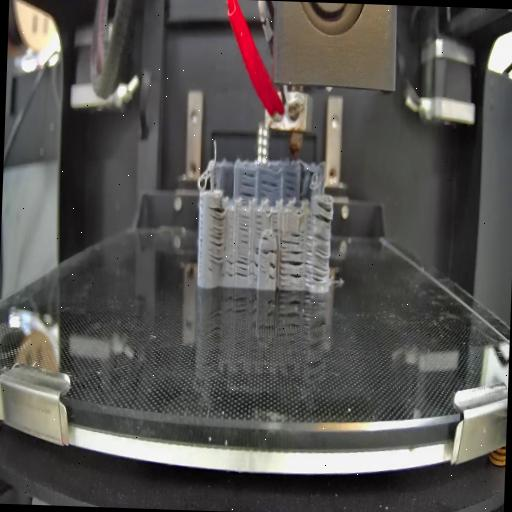cracks: (304, 234, 330, 284), (205, 205, 224, 265), (222, 258, 259, 280), (280, 250, 302, 282), (282, 168, 298, 201), (259, 171, 278, 197), (312, 199, 332, 223), (238, 171, 256, 196), (238, 212, 252, 244), (282, 230, 301, 246), (251, 245, 276, 257), (267, 260, 276, 283), (270, 210, 279, 232), (254, 214, 262, 236), (260, 235, 270, 242)
